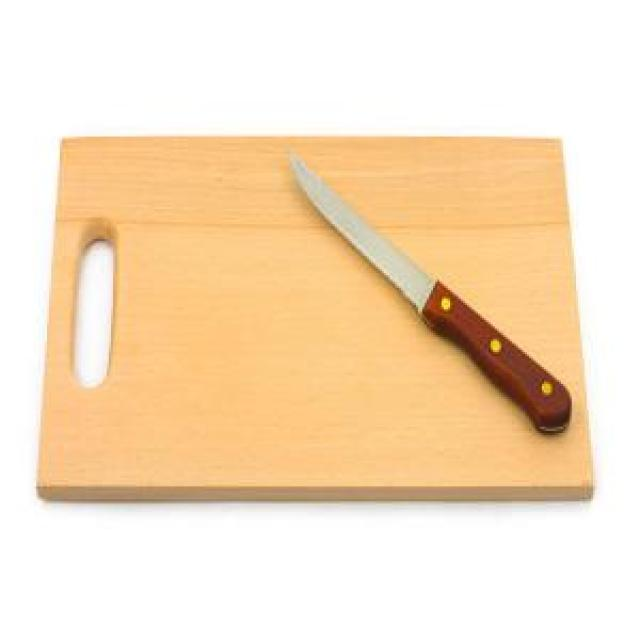knife: (290, 152, 576, 436)
